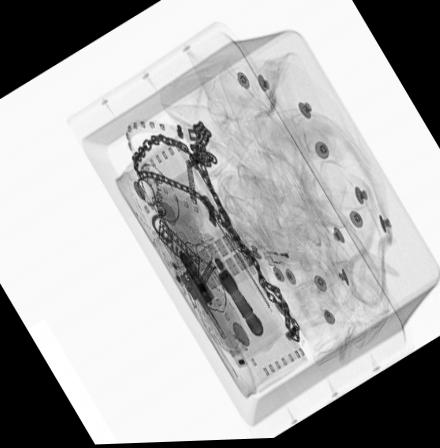Lighter: (257, 243, 314, 276)
